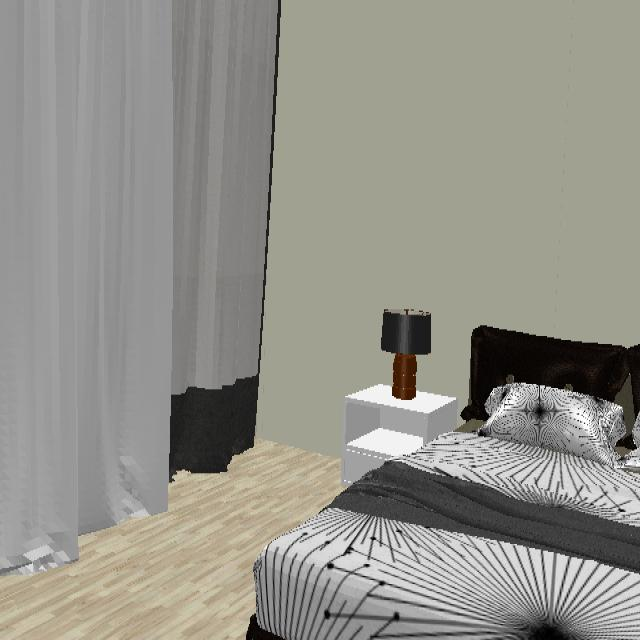bed: (246, 325, 640, 640)
lamp: (380, 309, 433, 403)
nighttable: (344, 385, 464, 488)
pillow: (478, 383, 626, 468)
